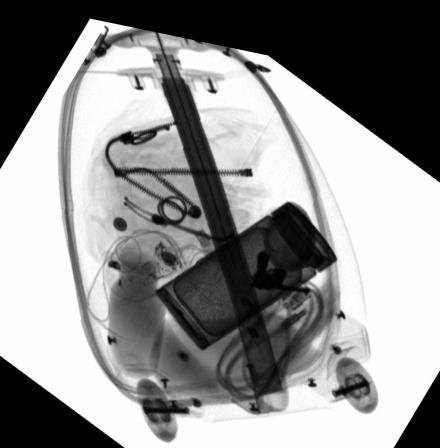Gun: (250, 239, 310, 282)
